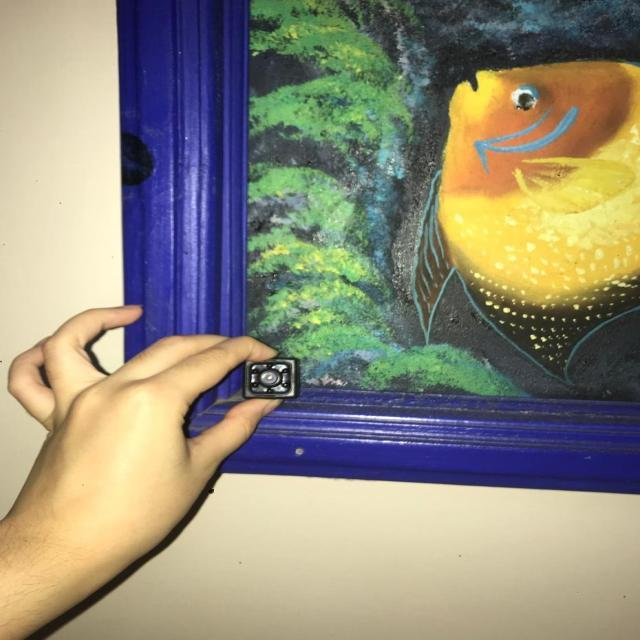hidden camera: (259, 371, 280, 386)
